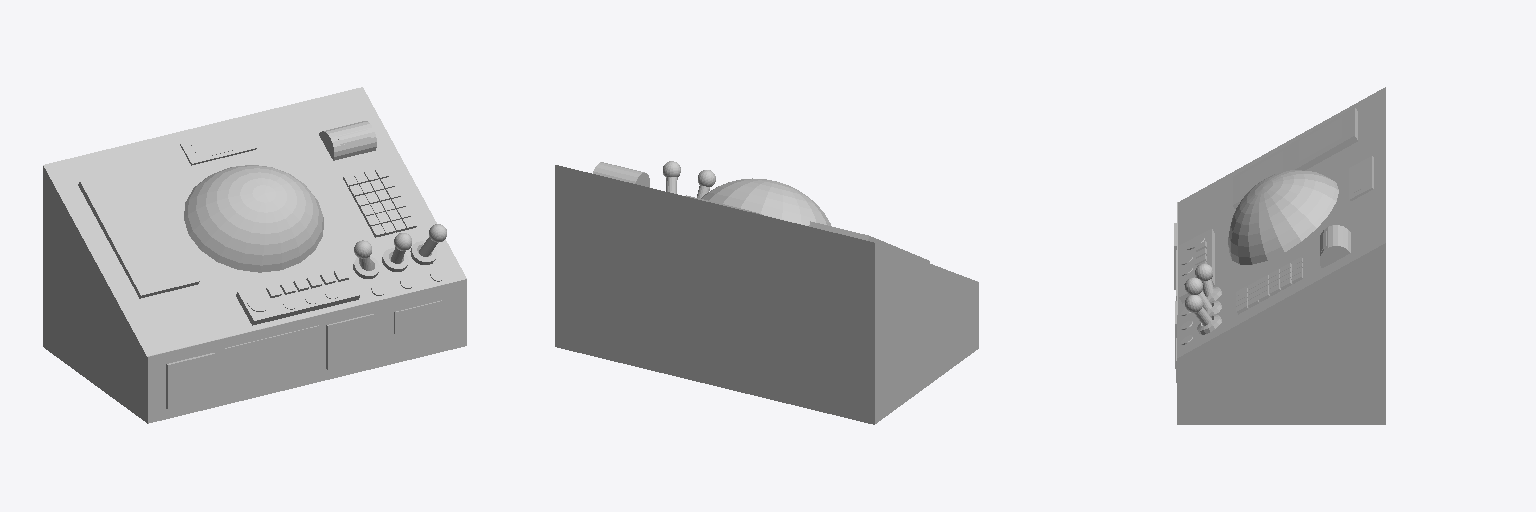
The model's file is maquina.obj.
3 renders of one model, left to right at view 1: azimuth 30°, elevation 25°; view 2: azimuth 150°, elevation 25°; view 3: azimuth 270°, elevation 25°, orthographic.
Parts seen in each view (by area): view 1: pCube7; view 2: pCube7; view 3: pCube7.
Part boxes in pixels (x1,y1,x2,y2): pCube7: (43, 87, 466, 423); pCube7: (555, 161, 978, 424); pCube7: (1174, 87, 1385, 424).
Size of the model in its own units: 3 by 1.64 by 1.73.